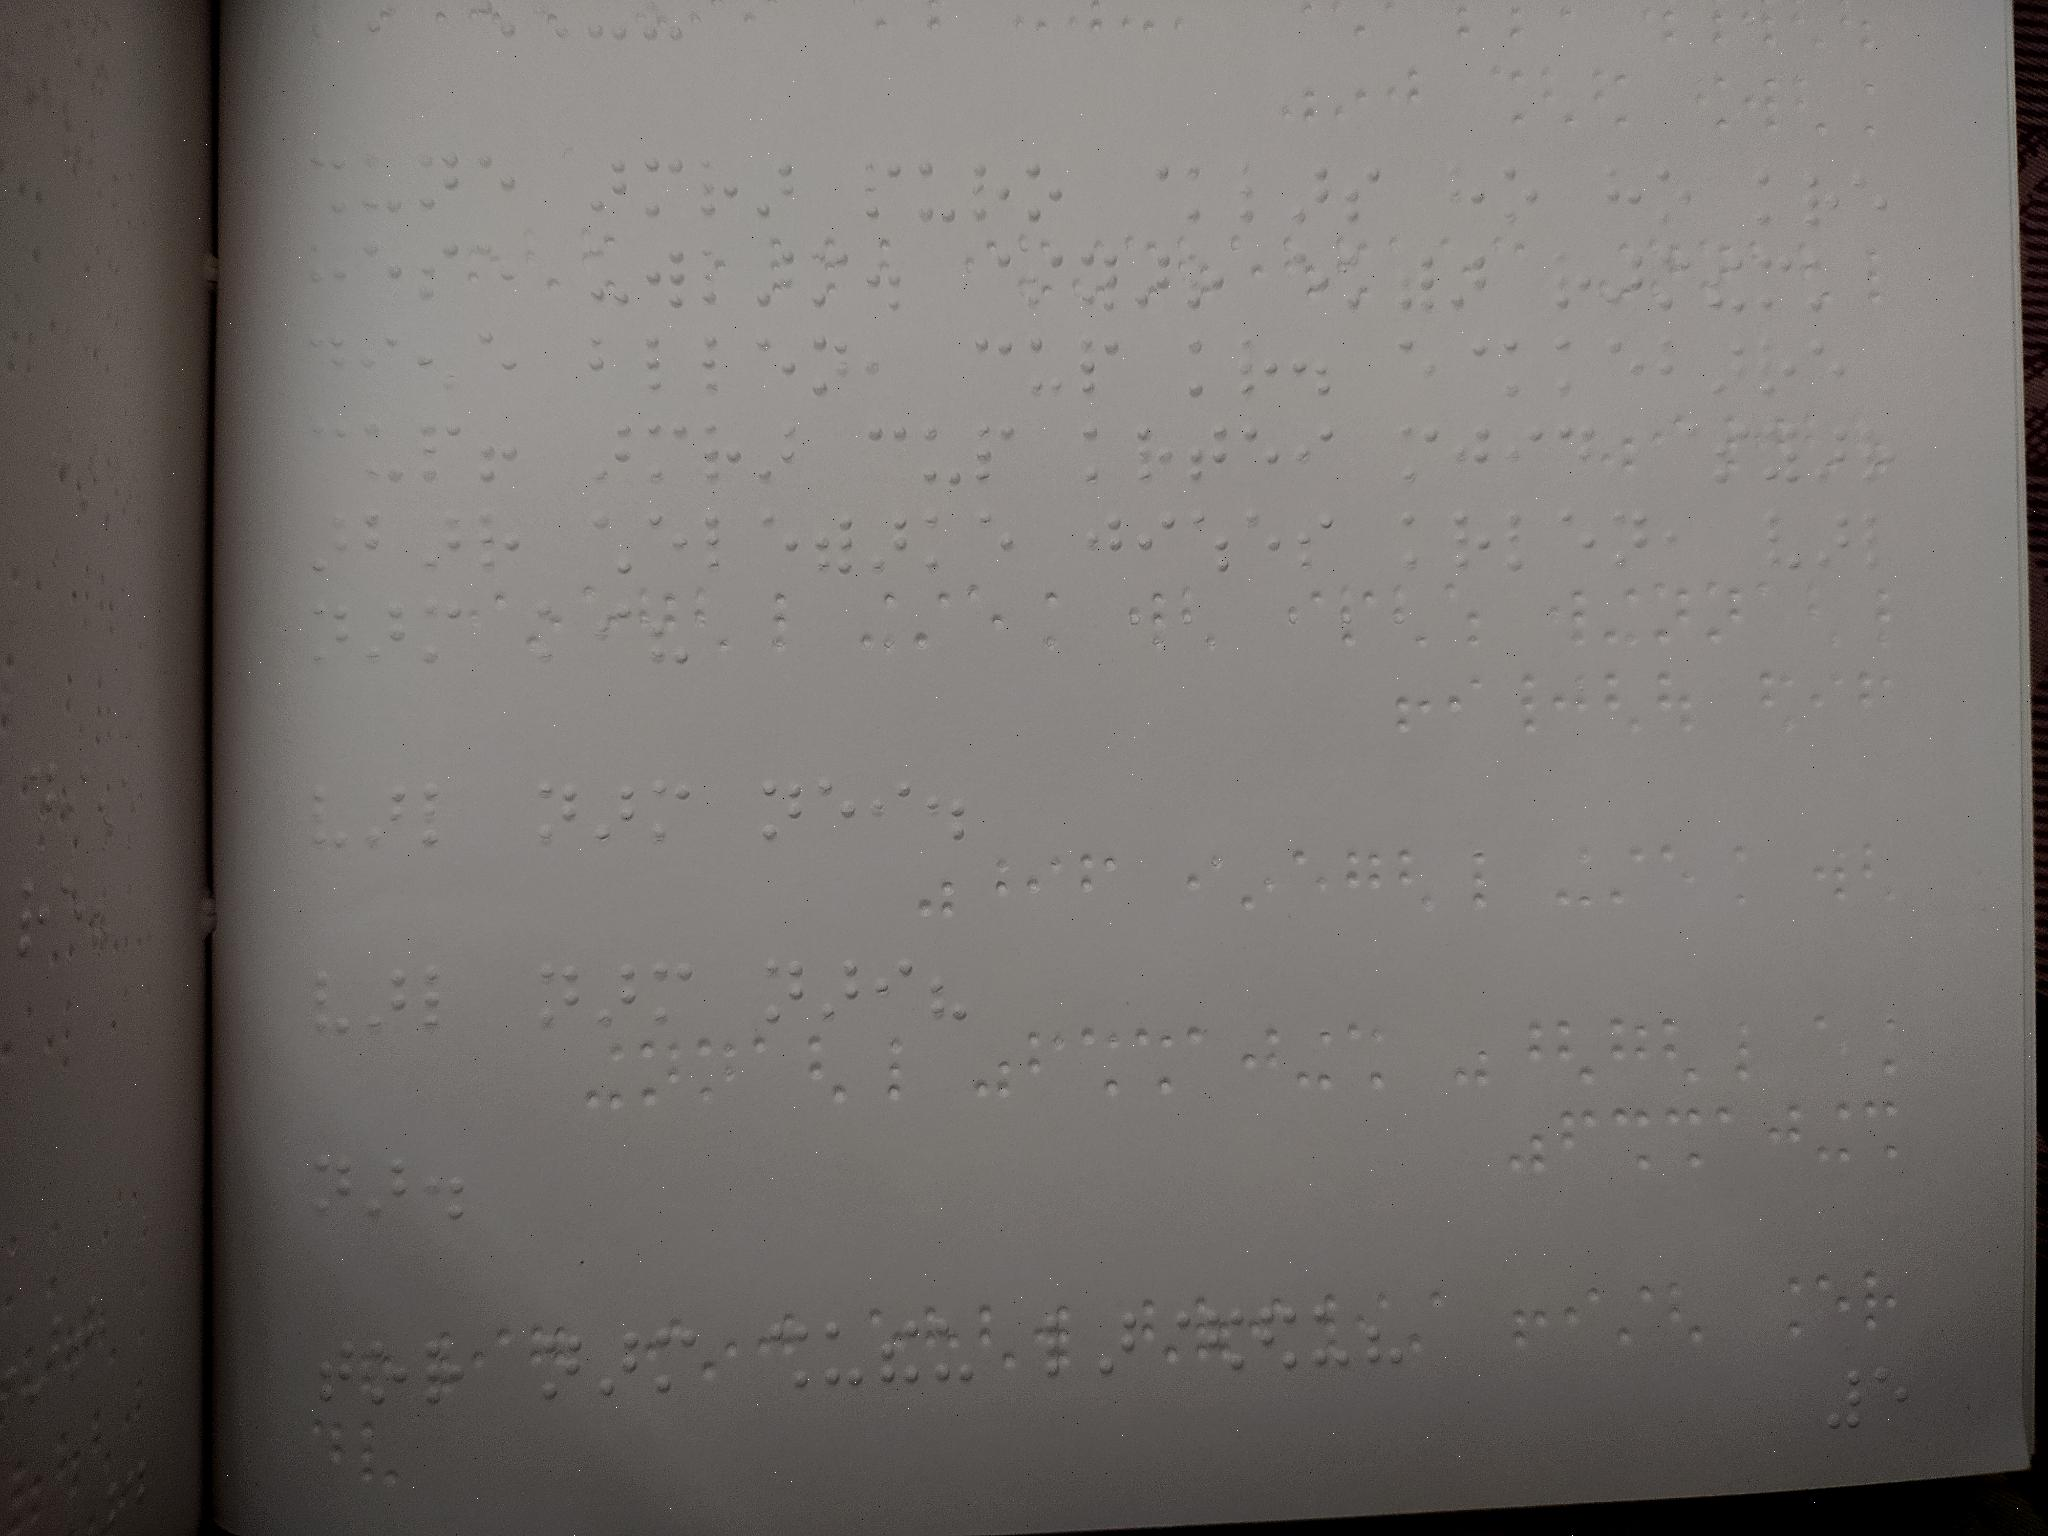a: (570, 142, 634, 220), (1600, 240, 1656, 318), (362, 778, 416, 858), (584, 418, 640, 494), (757, 145, 805, 231), (750, 415, 802, 493), (1278, 154, 1330, 231), (1128, 246, 1180, 322), (364, 958, 412, 1038), (752, 241, 802, 315), (587, 781, 639, 851), (306, 509, 356, 580), (589, 960, 641, 1028), (814, 960, 866, 1028), (418, 508, 466, 576), (362, 596, 410, 664), (368, 1152, 414, 1222), (1706, 332, 1754, 398), (867, 508, 911, 580), (1090, 1312, 1138, 1378), (1455, 234, 1495, 312), (595, 1330, 641, 1396), (1812, 508, 1854, 568), (1811, 419, 1851, 477)
b: (1652, 330, 1700, 400), (582, 322, 630, 391), (358, 513, 410, 575)
bh: (307, 962, 361, 1038), (306, 784, 354, 858), (1764, 510, 1806, 576)
ch: (861, 420, 917, 484), (974, 327, 1022, 391), (308, 414, 354, 480)
chh: (588, 509, 636, 583)
d: (1545, 408, 1603, 480), (1200, 1302, 1252, 1374), (1260, 1298, 1302, 1370), (302, 327, 354, 385)
dh: (1706, 244, 1756, 318), (873, 1318, 923, 1384)
e: (472, 140, 534, 226), (350, 230, 412, 312), (1232, 412, 1292, 496), (460, 233, 522, 309), (744, 322, 808, 394), (1596, 328, 1658, 398), (1848, 153, 1902, 231), (1390, 328, 1444, 404), (638, 504, 692, 580), (1284, 240, 1332, 318), (472, 322, 524, 392), (1806, 328, 1860, 394), (1550, 505, 1598, 575), (1236, 505, 1288, 569), (756, 504, 804, 572), (970, 506, 1020, 570), (813, 778, 857, 840)
h: (302, 234, 352, 312), (1440, 155, 1490, 227), (1599, 158, 1647, 230)
i: (346, 327, 406, 395), (1292, 418, 1342, 490), (866, 956, 916, 1024), (1508, 410, 1546, 490), (864, 778, 912, 840), (590, 599, 634, 663), (1136, 504, 1178, 570)
j: (1449, 420, 1501, 498), (1072, 247, 1126, 319), (1756, 416, 1806, 482), (1082, 507, 1128, 569)
k: (1080, 424, 1130, 500), (1336, 246, 1388, 316), (1545, 332, 1593, 401), (1800, 246, 1846, 314), (1397, 503, 1441, 574), (1746, 163, 1794, 228), (1184, 333, 1226, 407), (1496, 334, 1540, 402), (530, 598, 574, 666), (1178, 159, 1224, 221), (918, 512, 958, 574)
l: (1230, 150, 1276, 234), (686, 330, 742, 398), (636, 330, 686, 400), (414, 960, 460, 1036), (417, 778, 459, 854), (696, 240, 738, 314), (1500, 506, 1542, 578), (698, 508, 740, 574), (1041, 1314, 1085, 1376), (1858, 512, 1898, 570)
m: (1393, 418, 1447, 492), (640, 418, 692, 494), (804, 234, 854, 312), (651, 1328, 703, 1402), (638, 146, 686, 224), (416, 596, 468, 664), (1755, 242, 1797, 324), (645, 959, 695, 1027), (1656, 239, 1700, 311), (644, 778, 690, 846)
n: (407, 140, 465, 232), (804, 322, 860, 409), (534, 1333, 588, 1405), (312, 1146, 358, 1226), (533, 963, 585, 1033), (308, 596, 354, 670), (756, 777, 806, 843), (536, 777, 580, 850), (759, 958, 805, 1023), (1612, 502, 1650, 576)
o: (1656, 156, 1704, 230), (364, 1338, 412, 1408), (1026, 160, 1068, 234), (1497, 163, 1543, 227)
p: (410, 410, 470, 488), (850, 151, 910, 227), (1070, 332, 1130, 404), (973, 420, 1027, 492)
r: (690, 144, 748, 232), (1544, 241, 1602, 317), (1234, 328, 1290, 404), (966, 156, 1020, 232), (1798, 162, 1850, 234), (700, 415, 748, 493), (472, 506, 522, 580), (418, 1337, 466, 1413), (1182, 241, 1228, 319), (1448, 506, 1498, 576), (1128, 422, 1174, 496), (1753, 332, 1803, 400), (1852, 422, 1902, 488)
s: (1338, 154, 1388, 232), (410, 232, 458, 312), (1021, 242, 1067, 318), (1291, 502, 1339, 572), (1709, 418, 1753, 482)
sh: (301, 140, 359, 230), (768, 1320, 814, 1388)
t: (1174, 414, 1232, 492), (1393, 245, 1447, 317), (812, 508, 858, 580), (316, 1330, 362, 1402)
th: (645, 238, 695, 310)
u: (358, 136, 410, 236), (354, 410, 408, 494), (916, 420, 970, 500), (580, 236, 638, 310), (912, 150, 964, 230), (1022, 328, 1072, 406), (818, 1318, 870, 1392), (1308, 1298, 1356, 1374), (929, 1316, 977, 1388)
y: (410, 328, 466, 400)
